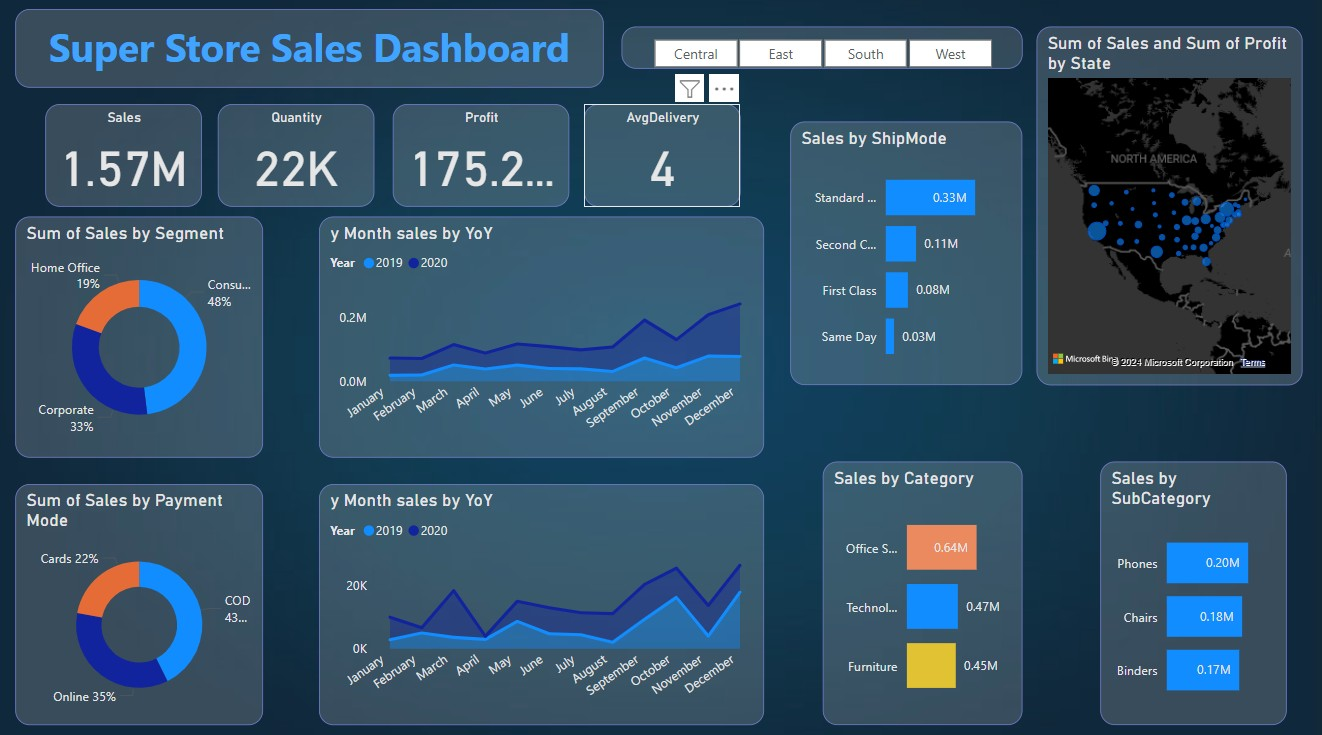

The dashboard page shown, as its layout file describes it:
{"tool":"powerbi","page":{"name":"Page 1","canvas":[1280,720],"ordinal":0},"visuals":[{"type":"barChart","title":"Sales by Category","fields":{"Category":["Sheet1.Category"],"Y":["Sum(Sheet1.Sales)"]},"box":[795,451.2,193,254.6],"z":0},{"type":"barChart","title":"Sales by SubCategory","fields":{"Category":["Sheet1.Sub-Category"],"Y":["Sum(Sheet1.Sales)"]},"box":[1062.9,451.2,179.8,254.6],"z":1000},{"type":"barChart","title":"Sales by ShipMode","fields":{"Category":["Sheet1.Ship Mode"],"Y":["Sum(Sheet1.Sales)"]},"box":[763.7,123.1,224.4,254.6],"z":2000},{"type":"stackedAreaChart","title":"y Month sales by YoY","fields":{"Category":["Sheet1.Order Date.Variation.Date Hierarchy.Month"],"Y":["Sum(Sheet1.Sales)"],"Series":["Sheet1.Order Date.Variation.Date Hierarchy.Year"]},"box":[308.8,214.7,429.5,232.8],"z":3000},{"type":"stackedAreaChart","title":"y Month sales by YoY","fields":{"Category":["Sheet1.Order Date.Variation.Date Hierarchy.Month"],"Y":["Sum(Sheet1.Profit)"],"Series":["Sheet1.Order Date.Variation.Date Hierarchy.Year"]},"box":[308.8,472.9,429.5,232.8],"z":4000},{"type":"map","fields":{"Category":["Sheet1.State"],"Size":["Sum(Sheet1.Sales)"]},"box":[1001.3,31.4,257,346.2],"z":5000},{"type":"donutChart","fields":{"Category":["Sheet1.Segment"],"Y":["Sum(Sheet1.Sales)"]},"box":[15.7,214.7,238.9,232.8],"z":6000},{"type":"donutChart","fields":{"Category":["Sheet1.Payment Mode"],"Y":["Sum(Sheet1.Sales)"]},"box":[15.7,472.9,238.9,232.8],"z":7000},{"type":"slicer","fields":{"Values":["Sheet1.Region"]},"box":[600.8,31.4,387.3,41],"z":8000},{"type":"textbox","box":[15.7,14.5,568.2,76],"z":9000},{"type":"card","title":"Sales","fields":{"Values":["Sum(Sheet1.Sales)"]},"box":[44.6,106.2,150.8,98.9],"z":10000},{"type":"card","title":"Quantity","fields":{"Values":["Sum(Sheet1.Quantity)"]},"box":[211.1,106.2,150.8,98.9],"z":11000},{"type":"card","title":"Profit","fields":{"Values":["Sum(Sheet1.Profit)"]},"box":[380,106.2,170.1,98.9],"z":12000},{"type":"card","title":"AvgDelivery","fields":{"Values":["Avg(Sheet1.AvgDelivery)"]},"box":[564.6,106.2,150.8,98.9],"z":13000}]}

Visuals, with their boxes in screenshot pixels (x1, y1, x2, y2), scaled from the page's 1280x720 canvas onto the 1322x735 screenshot:
"Sales by Category" barChart: <bbox>821, 461, 1020, 721</bbox>
"Sales by SubCategory" barChart: <bbox>1098, 461, 1283, 721</bbox>
"Sales by ShipMode" barChart: <bbox>789, 126, 1021, 386</bbox>
"y Month sales by YoY" stackedAreaChart: <bbox>319, 219, 763, 457</bbox>
"y Month sales by YoY" stackedAreaChart: <bbox>319, 483, 763, 720</bbox>
map - Sheet1.State x Sum(Sheet1.Sales): <bbox>1034, 32, 1300, 385</bbox>
donutChart - Sheet1.Segment x Sum(Sheet1.Sales): <bbox>16, 219, 263, 457</bbox>
donutChart - Sheet1.Payment Mode x Sum(Sheet1.Sales): <bbox>16, 483, 263, 720</bbox>
slicer - Sheet1.Region: <bbox>621, 32, 1021, 74</bbox>
textbox: <bbox>16, 15, 603, 92</bbox>
"Sales" card: <bbox>46, 108, 202, 209</bbox>
"Quantity" card: <bbox>218, 108, 374, 209</bbox>
"Profit" card: <bbox>392, 108, 568, 209</bbox>
"AvgDelivery" card: <bbox>583, 108, 739, 209</bbox>
